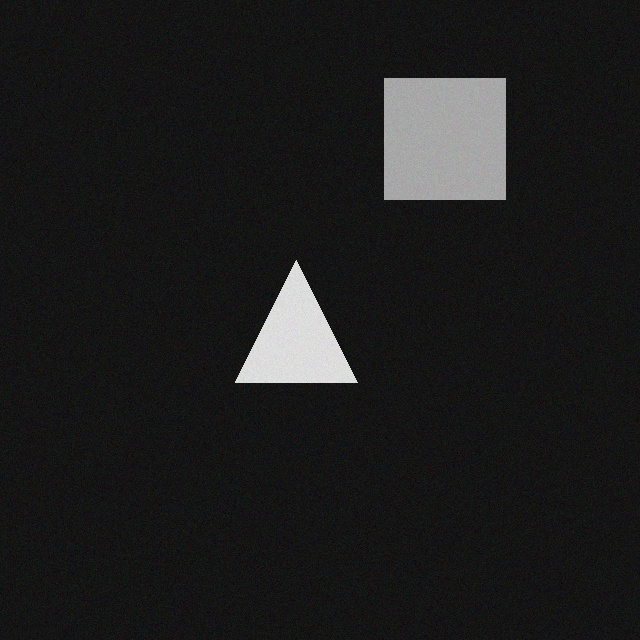square: (393, 67, 514, 188)
triangle: (244, 249, 366, 371)
